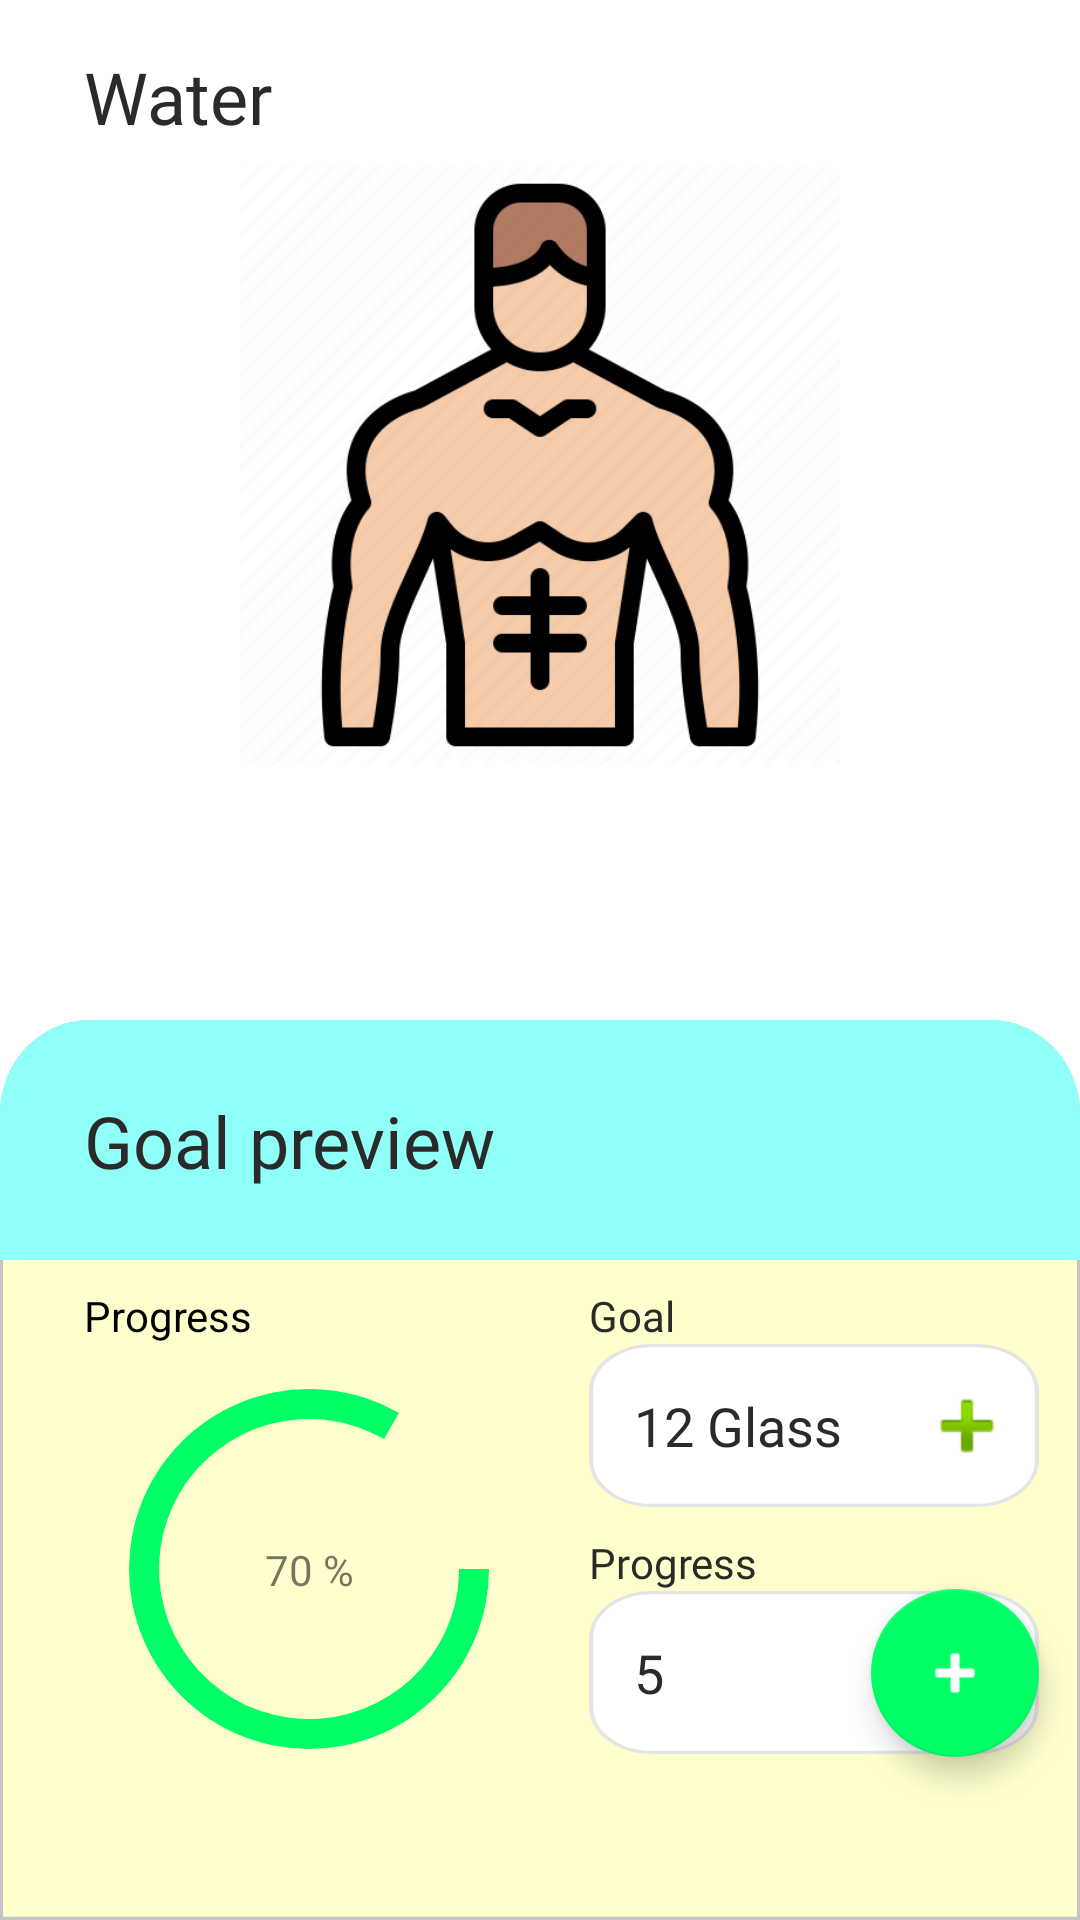

Named icons in this screenshot (1080px x 1920px) and their centers, (x,y):
add: (967,1426), (955,1673)
